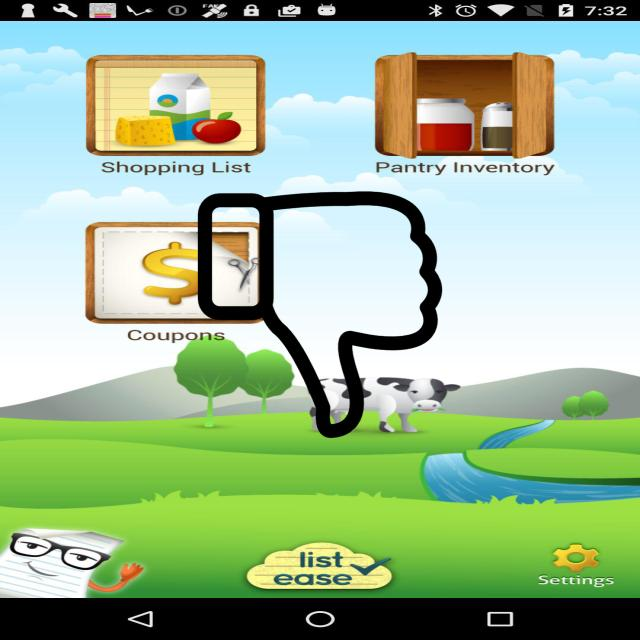obstruction: (194, 191, 446, 438)
